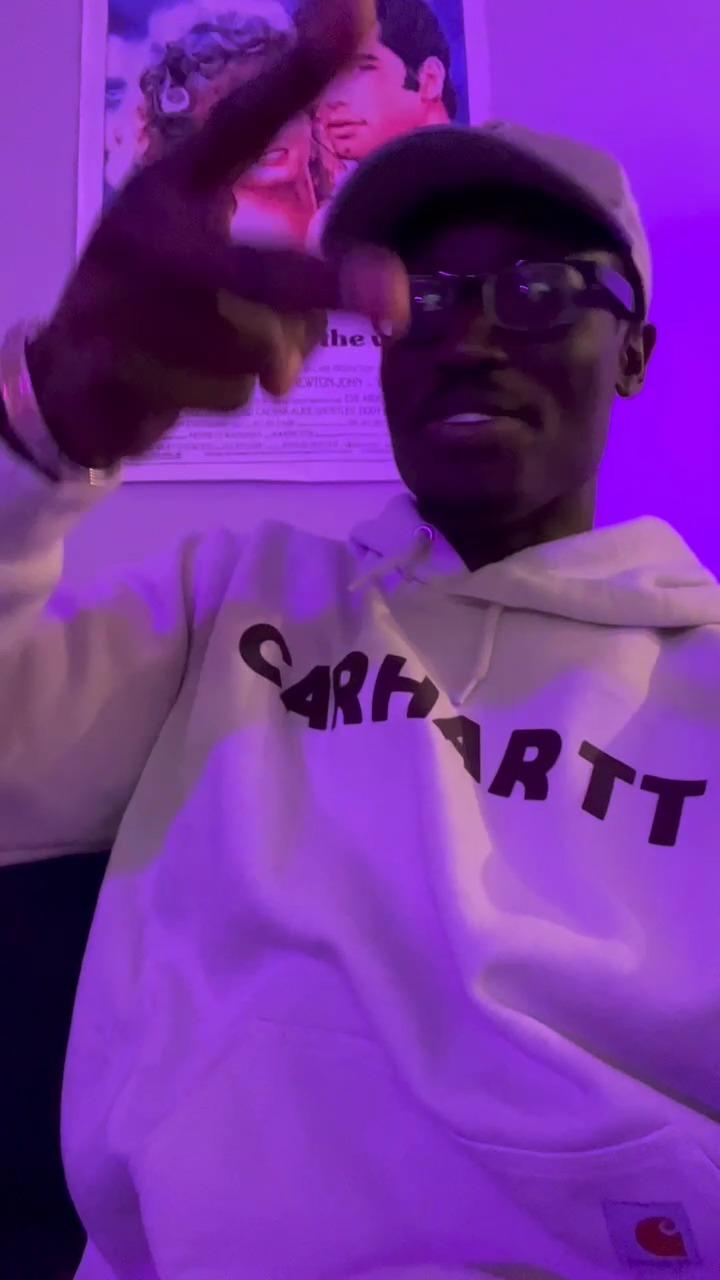Scissors: (28, 0, 408, 472)
